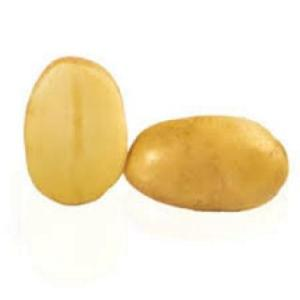potato: (123, 117, 288, 213), (28, 56, 128, 206)
